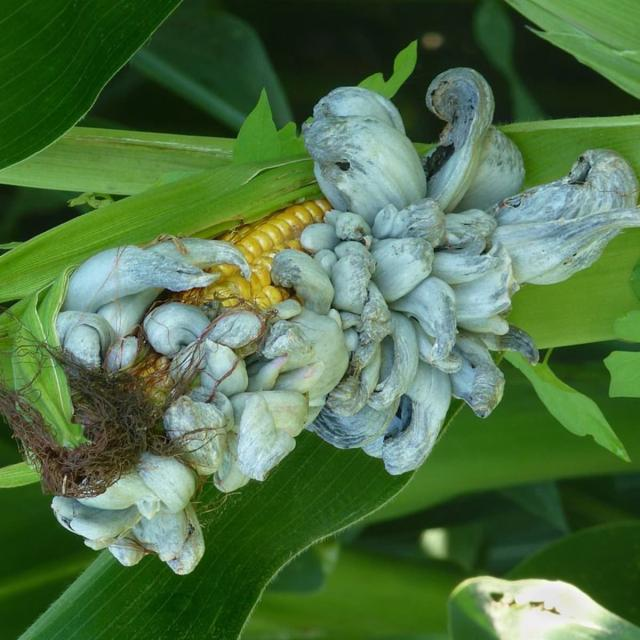Leaf_Scald: (4, 32, 628, 559)
